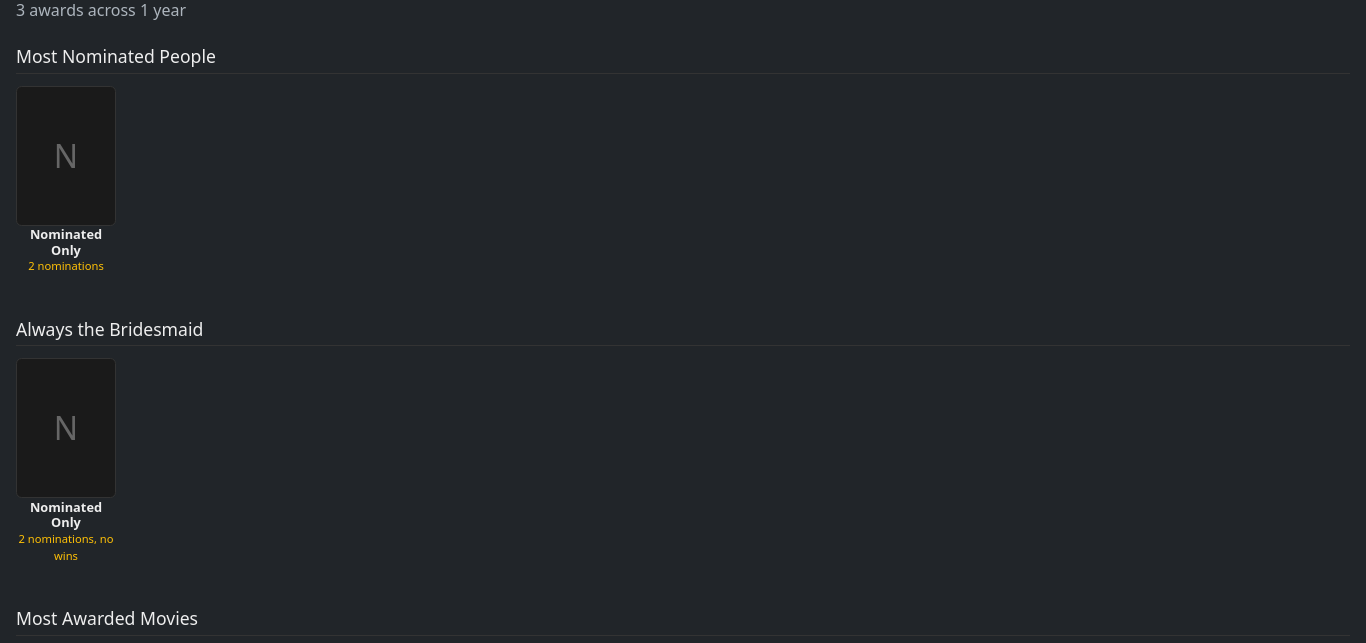
Scenario: TrophyCase › leaderboards › tapping a Bridesmaid card reveals the films panel with its nomination posters
Click the element with class "decorated-person" that starts with "Nominated Only". click: x=66, y=461
box: [16,358,116,564]
(page scrolled)
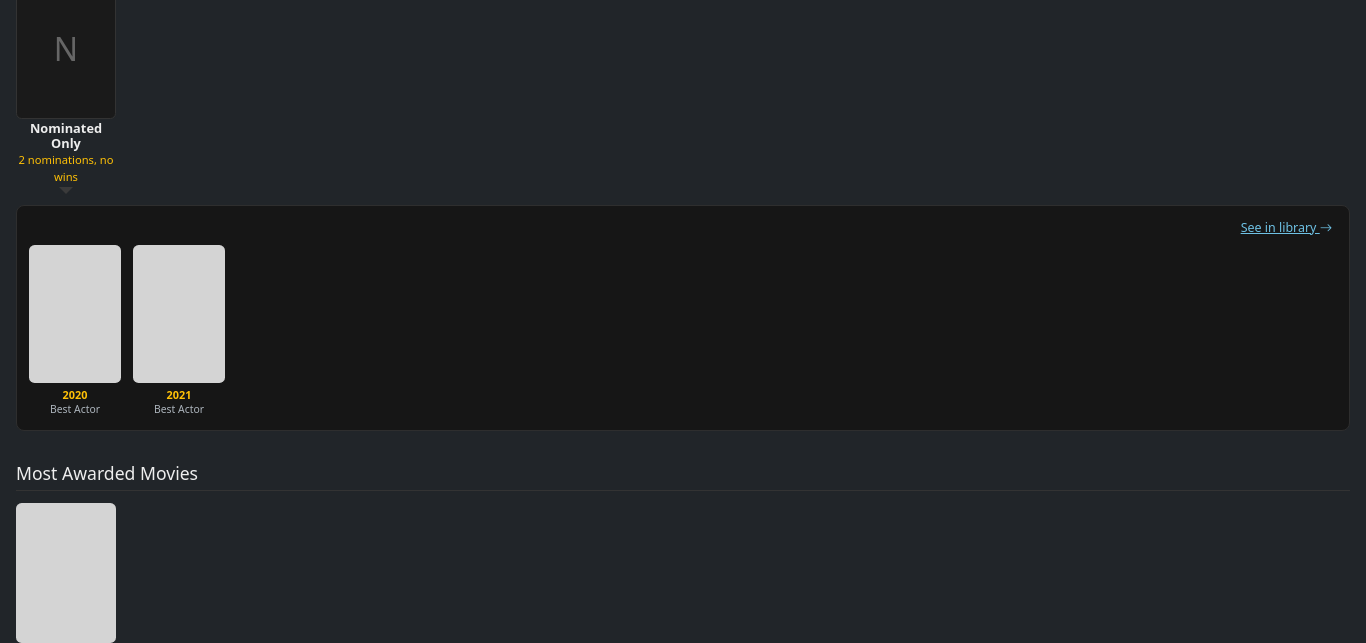
Result: the element showing "See in library 2020 Best Actor 2021 Best Actor" is shown at [16,205,1350,431]
